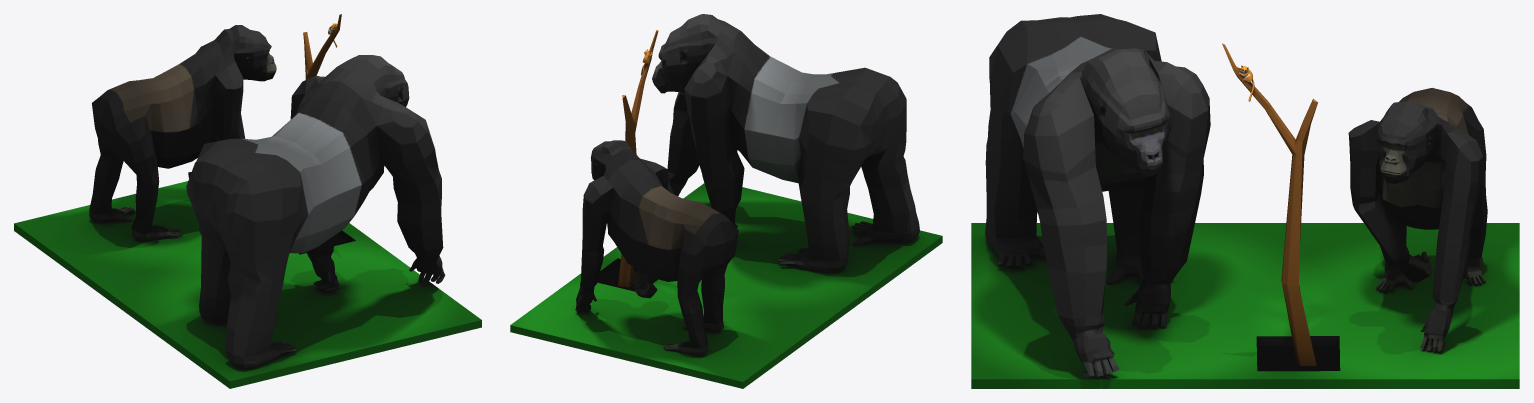
Rendered from gorilla-mouselemur.glb.
The picture shows the model from 3 angles, left to right: view 1: azimuth 30°, elevation 25°; view 2: azimuth 150°, elevation 25°; view 3: azimuth 270°, elevation 25°; orthographic projection. The views are drawn at different scales.
Bounding box in the file's own units: 1.81 × 1.68 × 2.59.
Materials: 1 (1 with a texture image).
